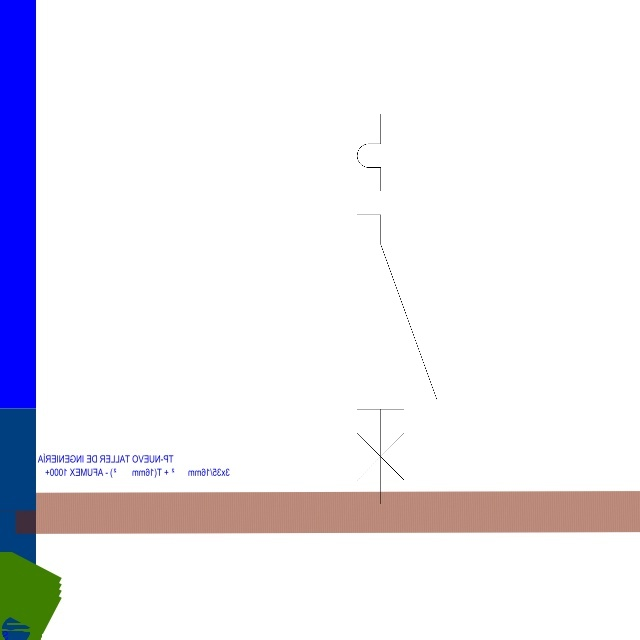interruptor_termomagnetico: (347, 104, 447, 514)
